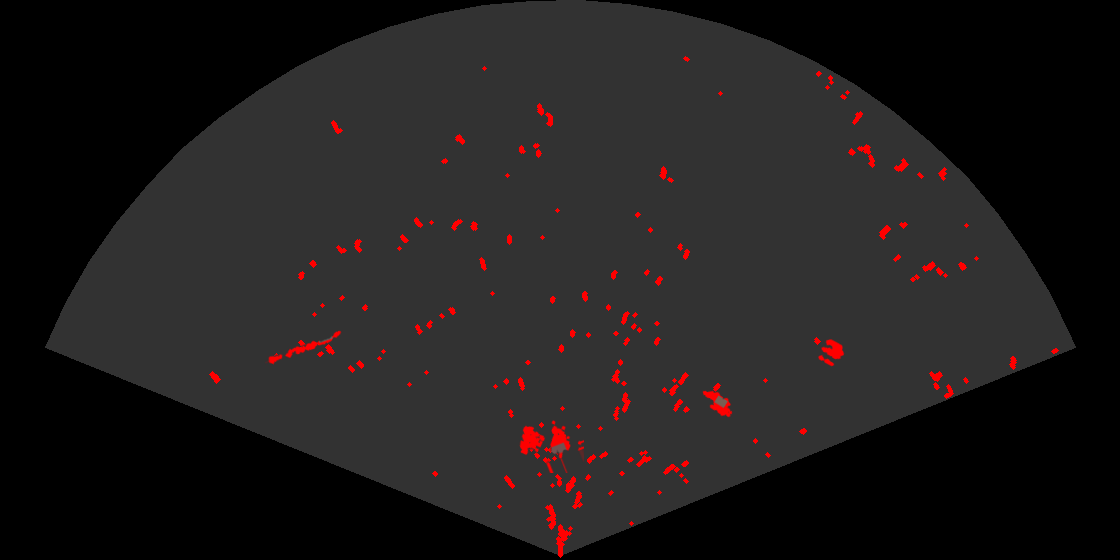AUV: (701, 389, 734, 419)
ball: (817, 337, 846, 368)
cage: (518, 419, 584, 473)
chain: (265, 329, 343, 366)
